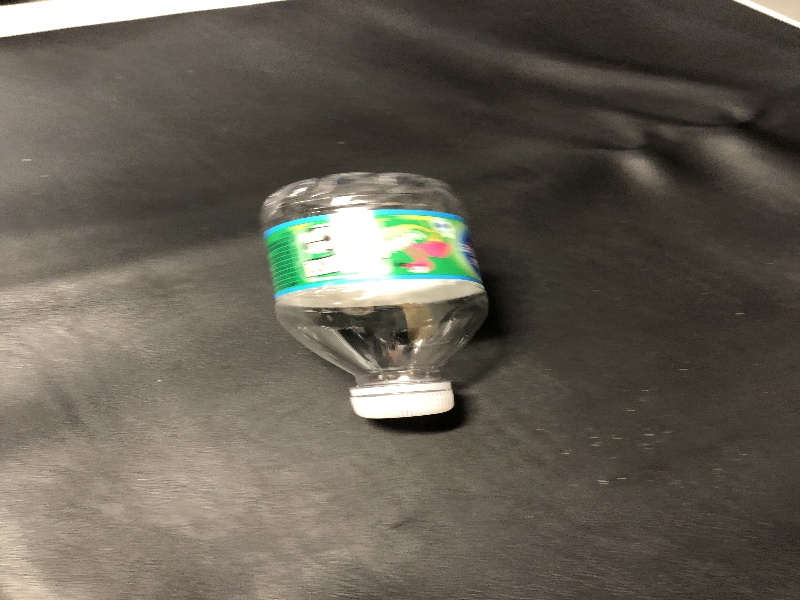plastic: (245, 162, 518, 435)
